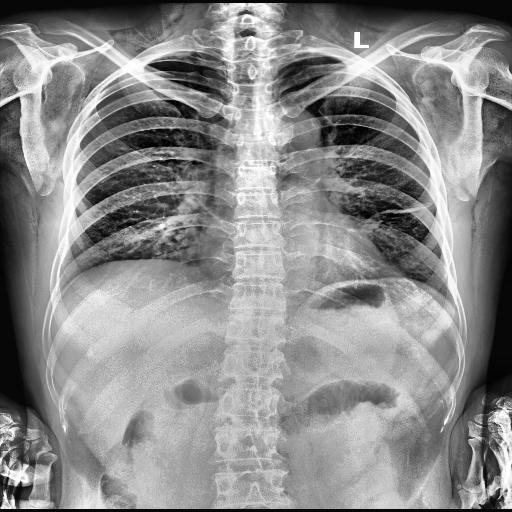0- Aortic enlargement: (254, 104, 322, 164), (262, 104, 322, 164)
11- Pleural thickening: (158, 50, 192, 57)
13- Pulmonary fibrosis: (361, 199, 434, 232), (362, 203, 431, 230), (366, 202, 431, 228)
9- Other lesion: (362, 203, 431, 230)
